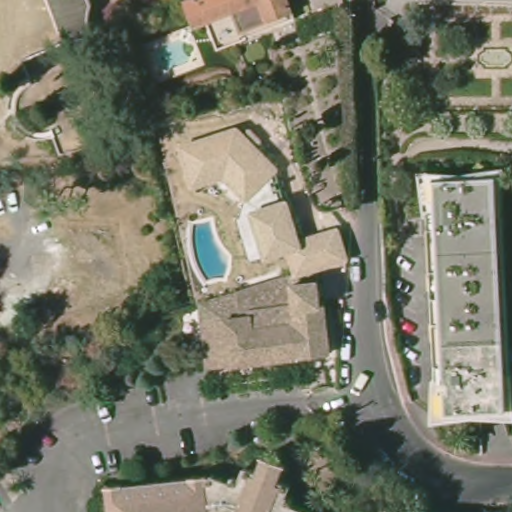pool: (186, 217, 234, 287), (142, 37, 194, 73)
